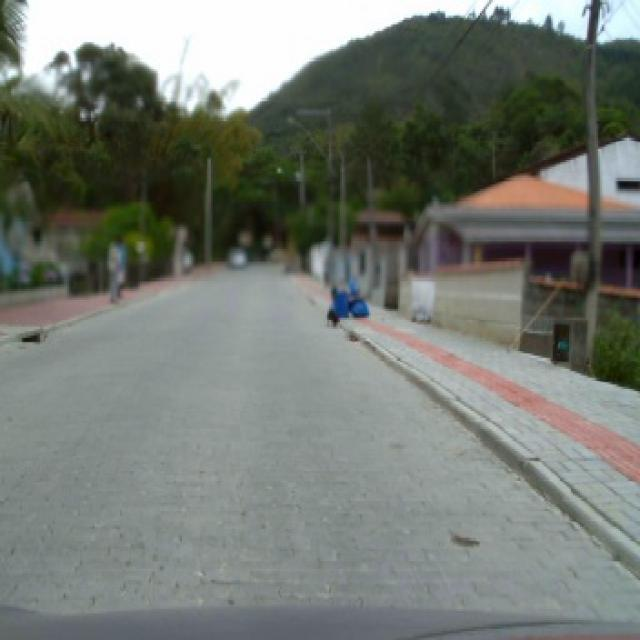Poth-hole: (14, 329, 40, 342), (346, 327, 358, 342)
